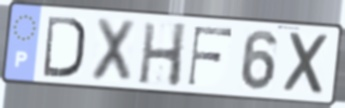6: (238, 29, 280, 93)
D: (41, 14, 87, 80)
F: (185, 25, 236, 89)
H: (136, 21, 189, 90)
X: (88, 15, 139, 86), (282, 29, 333, 98)
